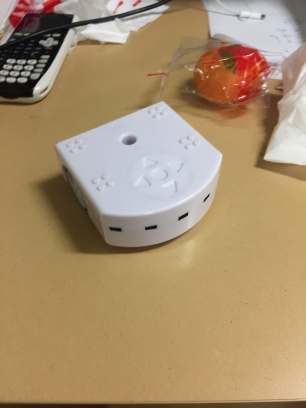thymio: (51, 95, 226, 257)
